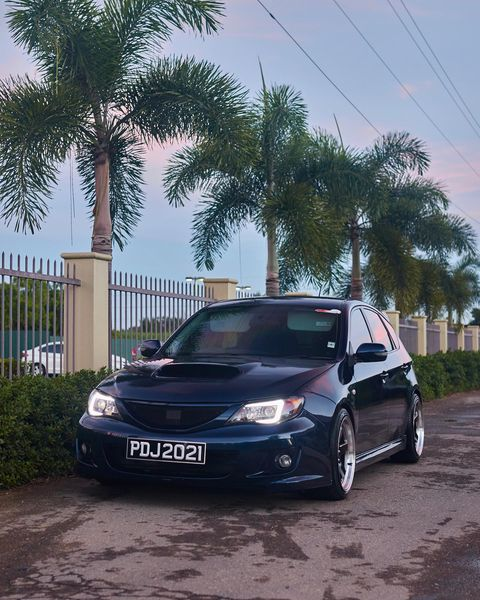License-Plate: (128, 437, 205, 458)
